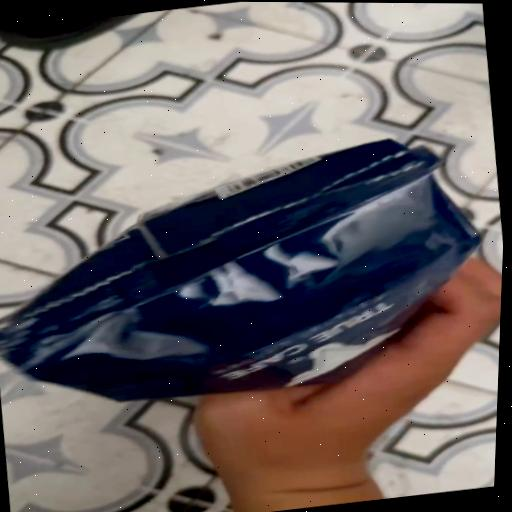cafe_hat: (0, 139, 479, 401)
